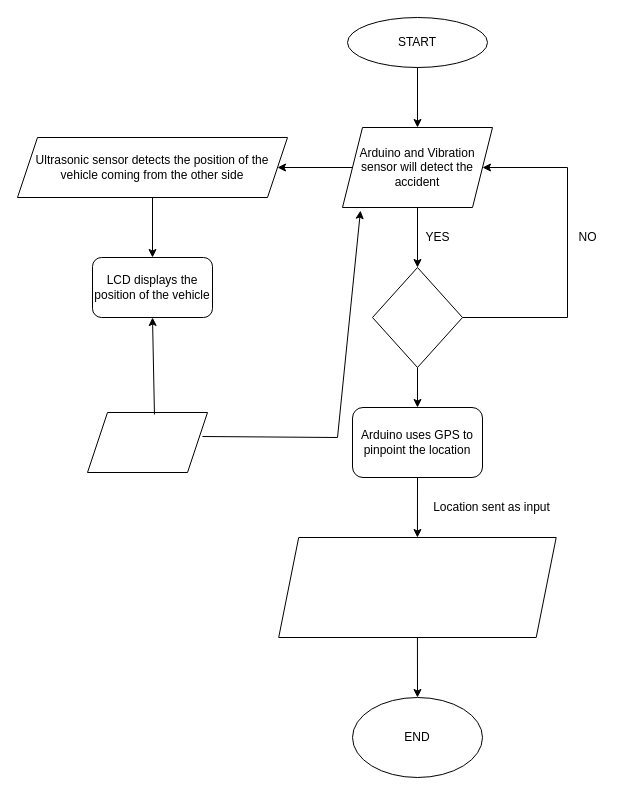
This 620x795 diagram has some shape labels left out. Here are the shapes that lost their labels. From the top down, the centre of each, then its label:
At (417,317): "Accident detected?".
At (147,442): "Accelerometer".
At (417,587): "GSM module send location as text alerts to the registered emergency contacts".
